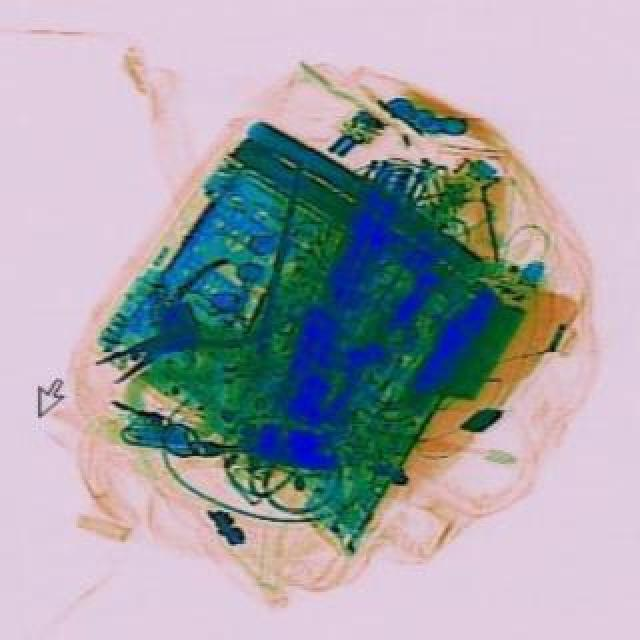wrench: (76, 244, 296, 416)
